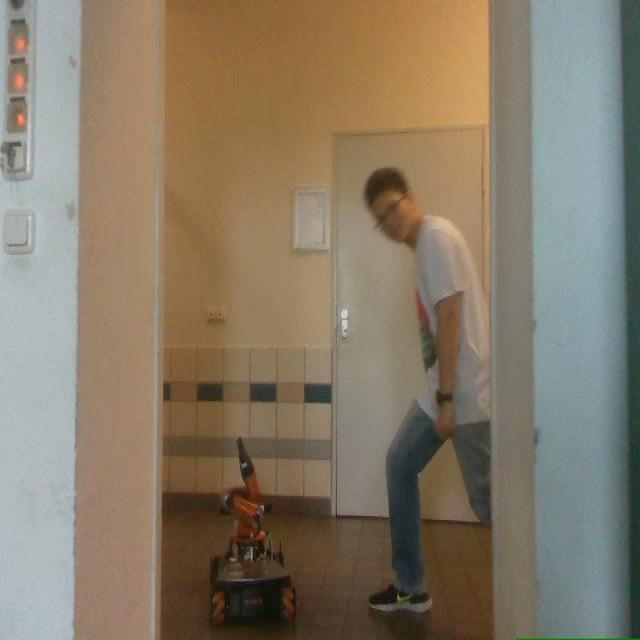humans: (364, 167, 490, 611)
objects: (209, 437, 295, 624)
